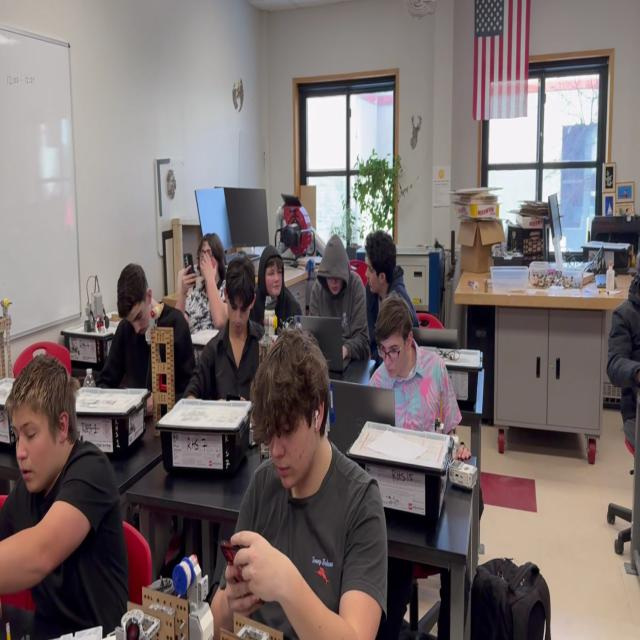pen: (220, 538, 265, 606), (223, 392, 241, 430), (183, 253, 196, 286)
